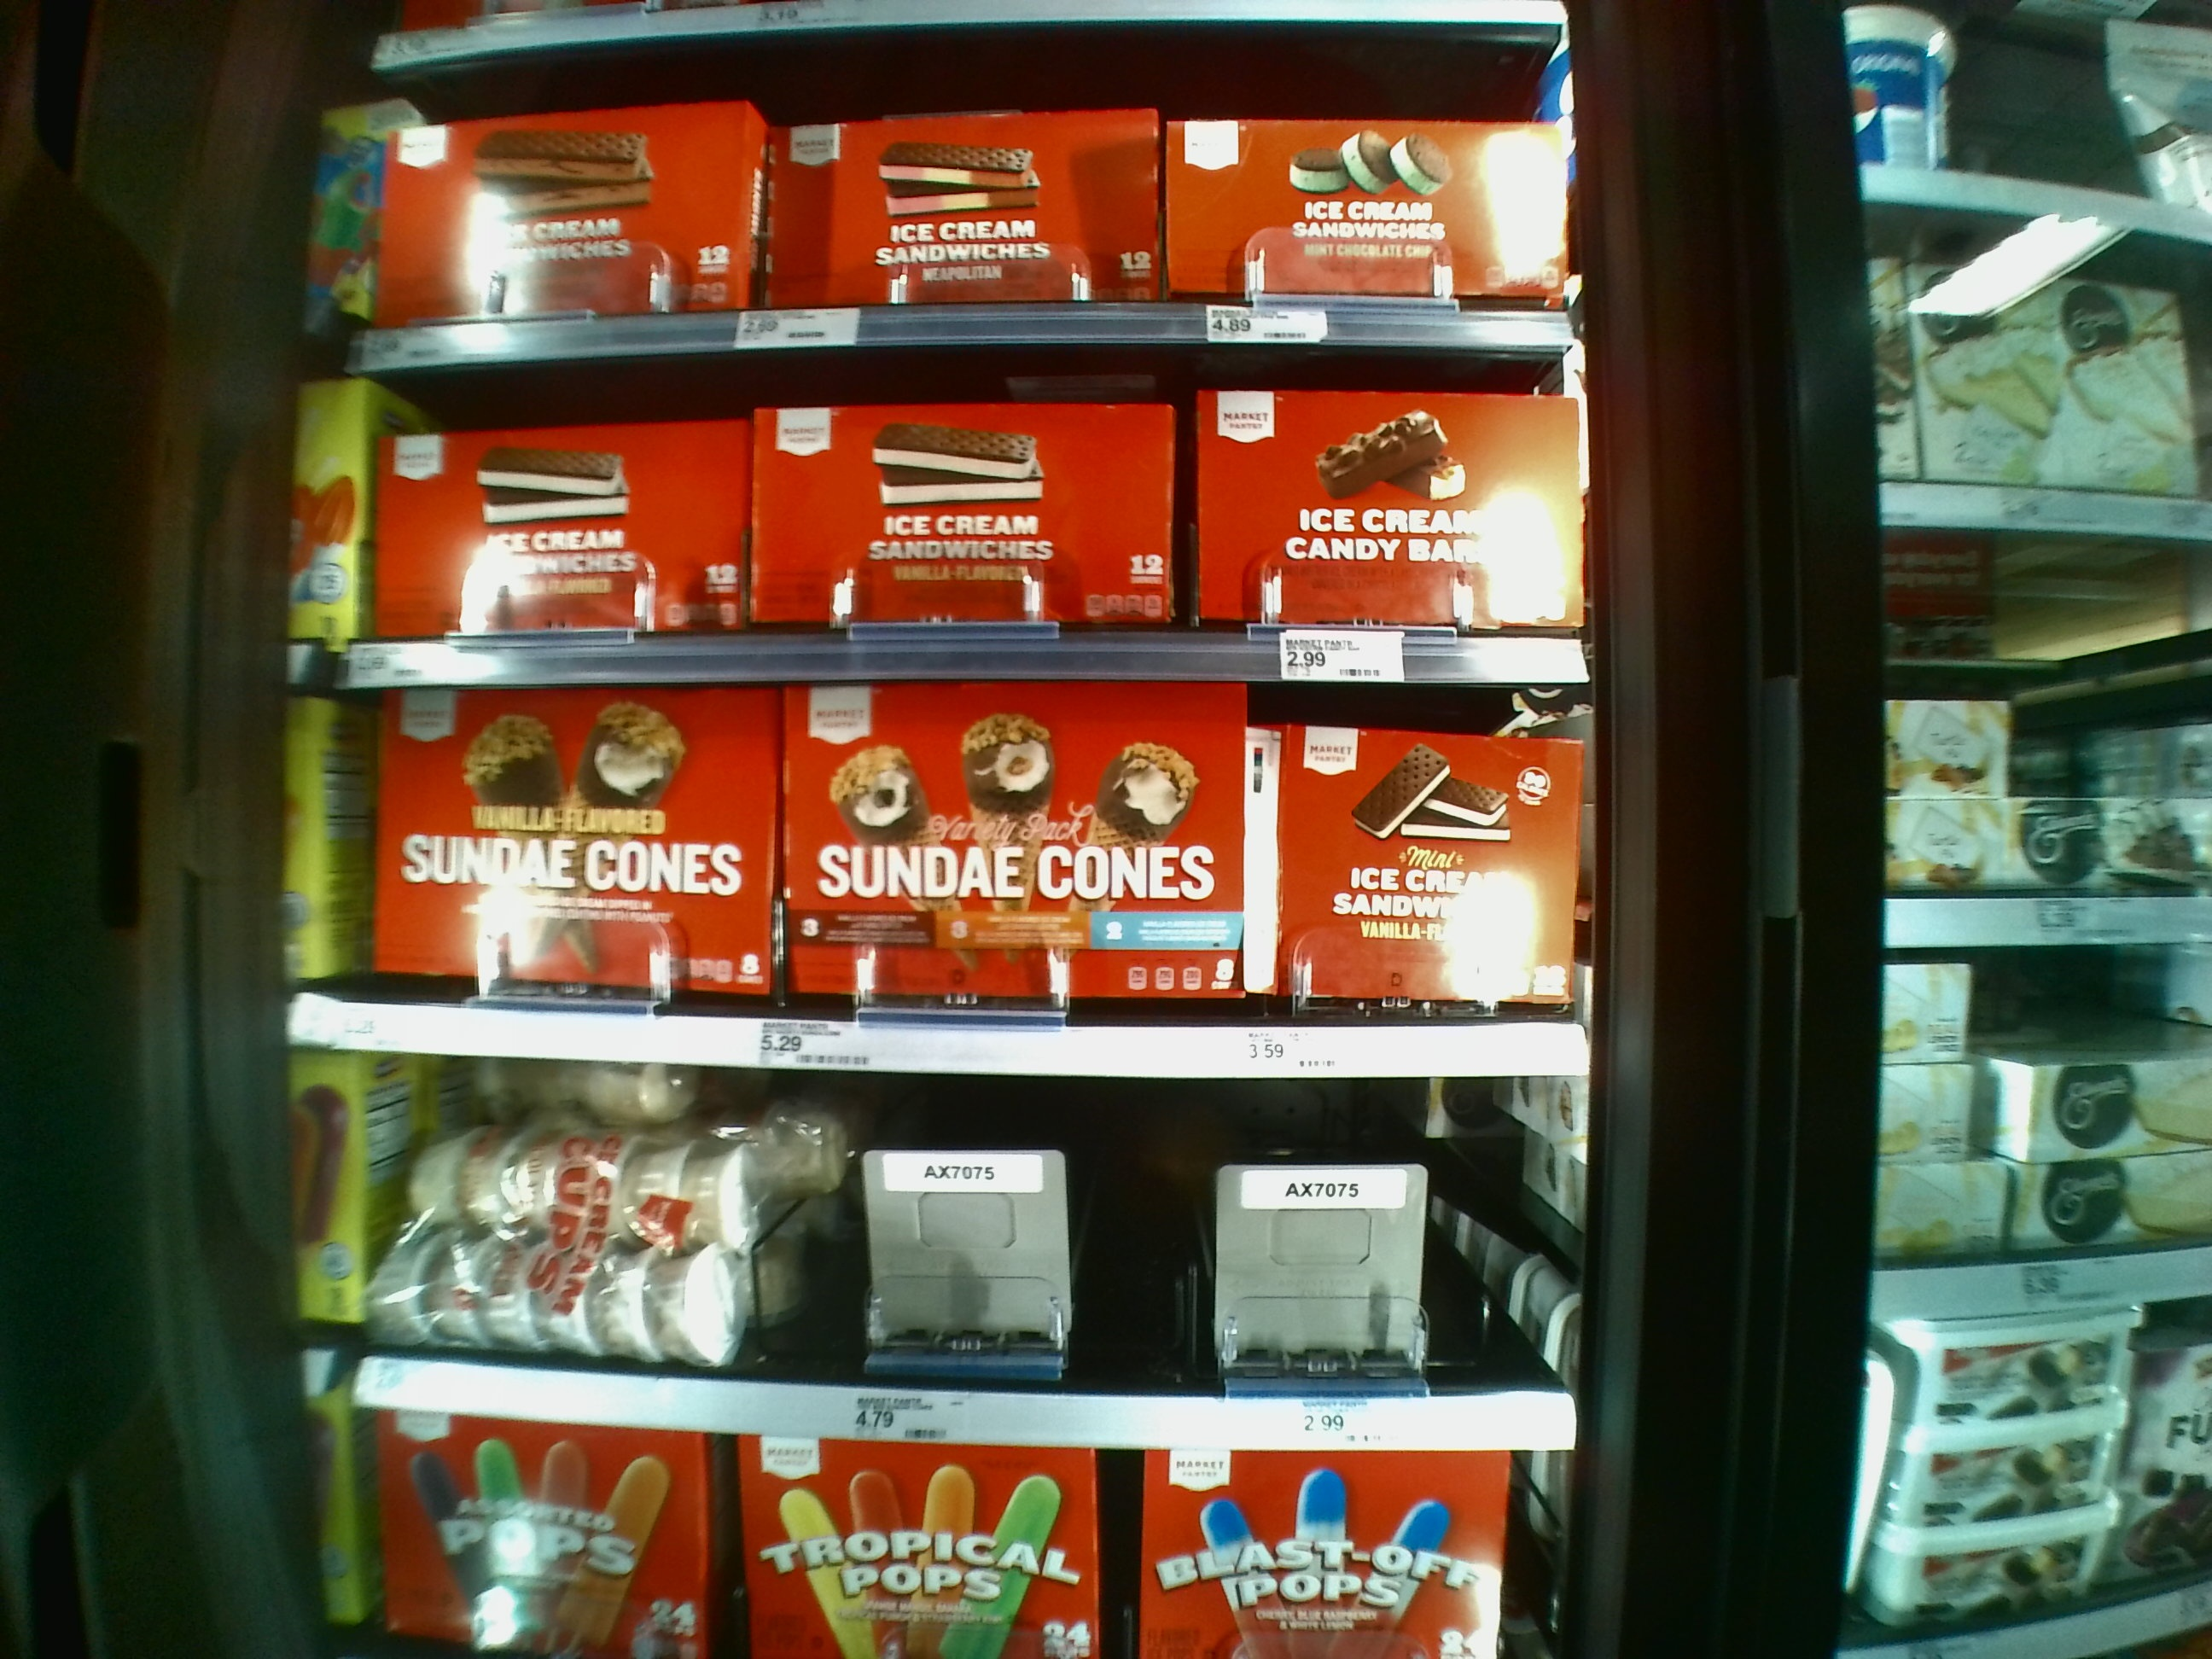shelf: (317, 1047, 1569, 1452), (340, 673, 1557, 1079), (336, 368, 1585, 667), (354, 63, 1552, 349)
